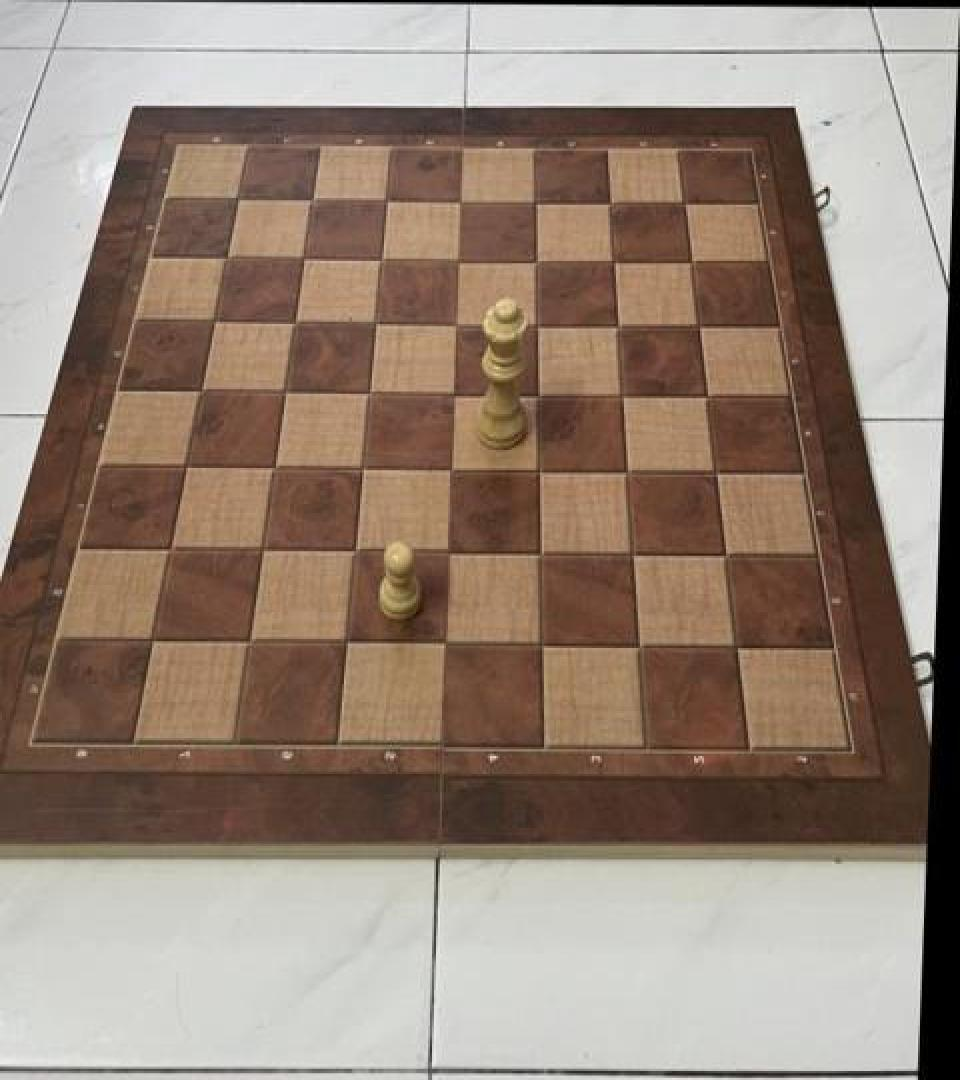xcorner: (519, 182, 553, 221), (208, 237, 242, 276), (267, 371, 301, 410), (220, 179, 254, 217), (295, 180, 329, 218), (369, 181, 403, 219), (444, 181, 478, 219), (593, 184, 627, 222), (667, 184, 701, 222), (286, 238, 320, 276), (364, 240, 398, 278), (442, 240, 476, 278), (519, 241, 553, 279), (597, 242, 631, 280), (674, 242, 708, 280), (196, 302, 230, 340), (277, 302, 311, 340), (358, 303, 392, 341), (439, 304, 473, 342), (520, 304, 554, 342), (601, 305, 635, 343), (681, 306, 715, 344), (182, 370, 216, 408), (352, 372, 386, 410), (436, 372, 470, 410), (521, 374, 555, 412), (605, 375, 639, 413), (689, 375, 723, 413), (167, 447, 201, 485), (256, 447, 290, 485), (345, 448, 379, 486), (433, 448, 467, 486), (522, 449, 556, 487), (610, 450, 644, 488), (698, 450, 732, 488), (151, 530, 185, 568), (244, 530, 278, 568), (337, 531, 371, 569), (430, 531, 464, 569), (523, 532, 557, 570), (615, 532, 649, 570), (708, 534, 742, 572), (133, 621, 167, 659), (231, 622, 265, 660), (329, 622, 363, 660), (426, 624, 460, 662), (524, 624, 558, 662), (621, 624, 655, 662), (718, 624, 752, 662)
